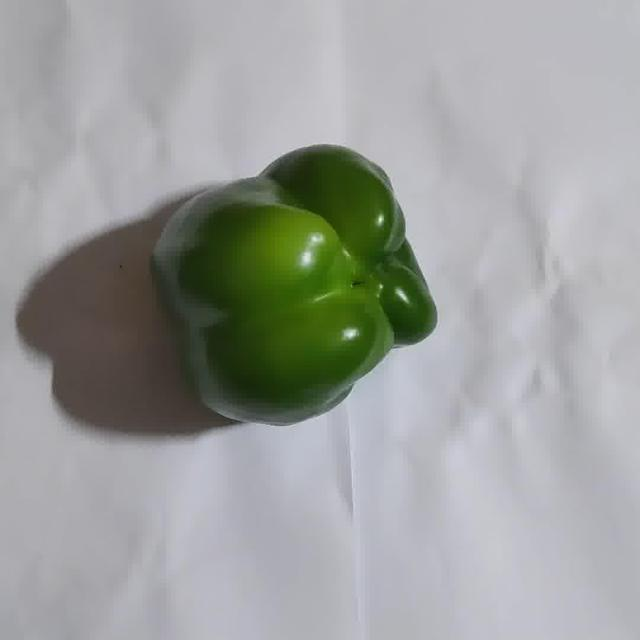Bell Pepper: (153, 145, 436, 425)
